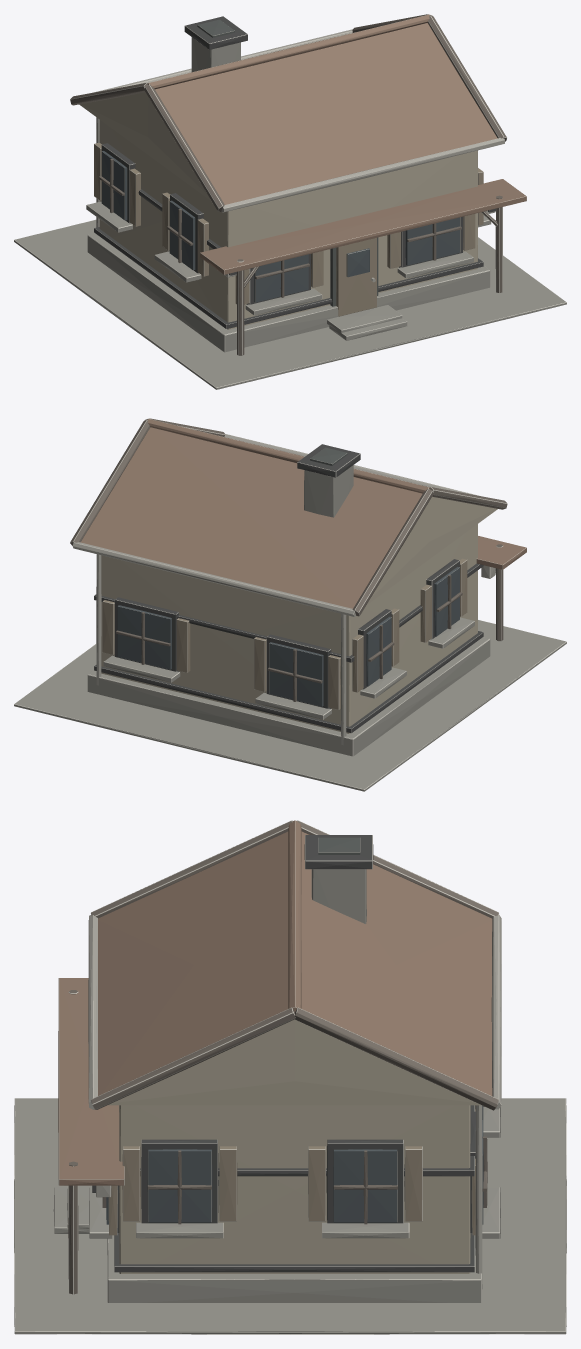
The model's file is district_art_4.glb.
3 views of the same model, one above another, from view 1: azimuth 30°, elevation 25°; view 2: azimuth 150°, elevation 25°; view 3: azimuth 270°, elevation 25° (orthographic). The views are drawn at different scales.
Parts seen in each view (by area): view 1: roof, stone, plaster, timber, glass, wood, trim, metal, dark; view 2: roof, stone, plaster, trim, glass, timber, wood, metal; view 3: roof, stone, plaster, timber, trim, glass, wood, metal, dark.
Part boxes in pixels (x1=…): roof: x1=147, y1=14, x2=526, y2=274; stone: x1=14, y1=37, x2=566, y2=389; plaster: x1=79, y1=92, x2=477, y2=329; timber: x1=70, y1=14, x2=506, y2=355; glass: x1=101, y1=151, x2=460, y2=302; wood: x1=94, y1=142, x2=483, y2=316; trim: x1=94, y1=16, x2=495, y2=328; metal: x1=93, y1=29, x2=504, y2=282; dark: x1=197, y1=19, x2=378, y2=306; roof: x1=80, y1=418, x2=526, y2=608; stone: x1=14, y1=465, x2=566, y2=791; plaster: x1=101, y1=496, x2=497, y2=733; trim: x1=94, y1=444, x2=495, y2=733; glass: x1=117, y1=567, x2=459, y2=706; timber: x1=70, y1=418, x2=507, y2=701; wood: x1=102, y1=558, x2=467, y2=709; metal: x1=72, y1=434, x2=495, y2=745; roof: x1=58, y1=820, x2=492, y2=1185; stone: x1=14, y1=869, x2=566, y2=1334; plaster: x1=108, y1=1019, x2=480, y2=1273; timber: x1=68, y1=820, x2=498, y2=1294; trim: x1=92, y1=835, x2=475, y2=1272; glass: x1=106, y1=1105, x2=483, y2=1224; wood: x1=108, y1=1105, x2=475, y2=1235; metal: x1=88, y1=914, x2=501, y2=1283; dark: x1=318, y1=837, x2=360, y2=854.
Bounding box in the file's own units: 12.5 × 8.39 × 12.5.
